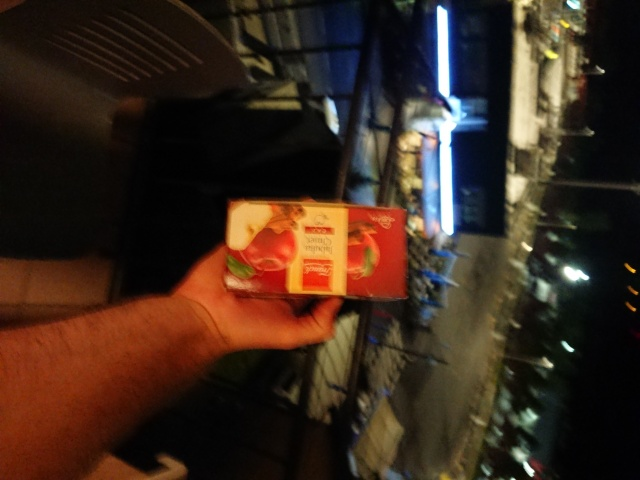Franck Apple Cinnamon Tea 60g: (218, 195, 412, 305)
